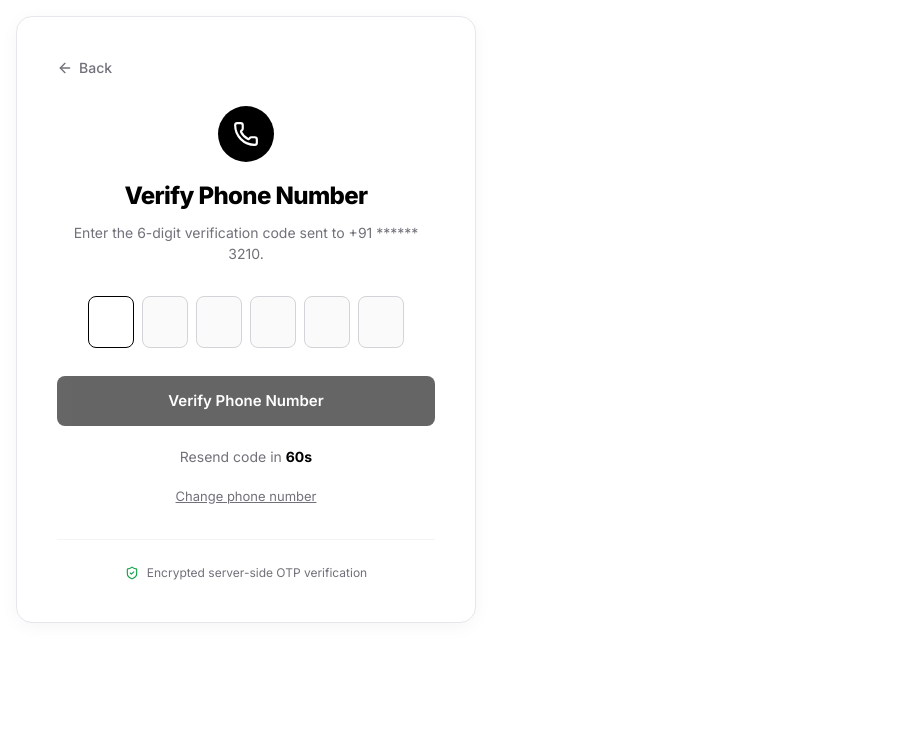
Test case: VerifyPhonePage Component › submits valid OTP and displays success confirmation
Step 1. Type "1" into the field named "Digit 1" → (111, 322), box 88,296 -> 134,348
Step 2. Type "1" into the field named "Digit 2" → (165, 322), box 142,296 -> 188,348
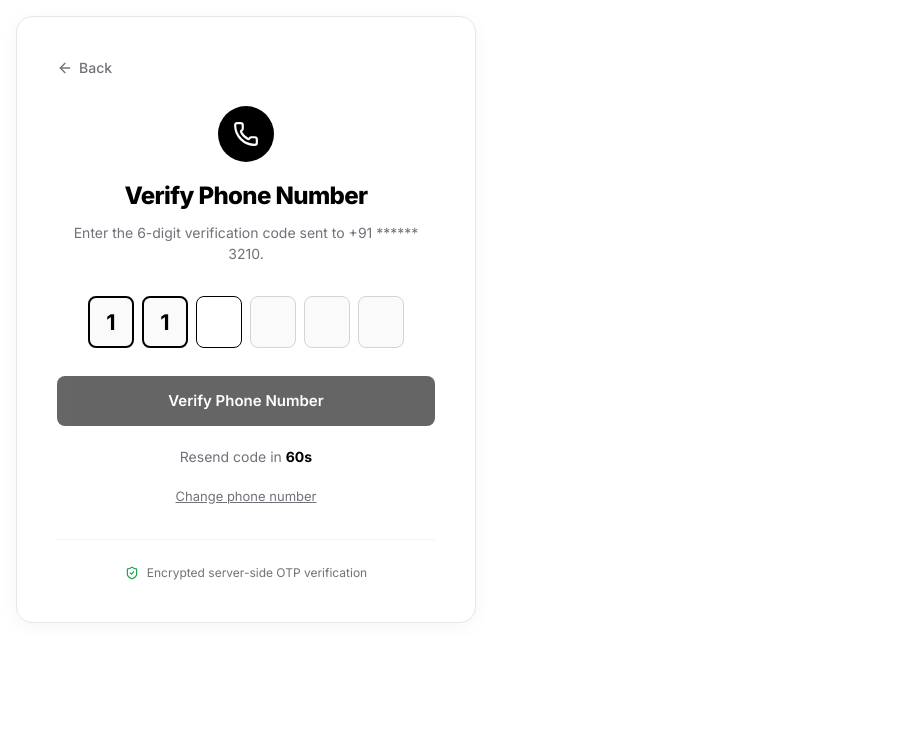
Step 3. Type "1" into the field named "Digit 3" → (219, 322), box 196,296 -> 242,348
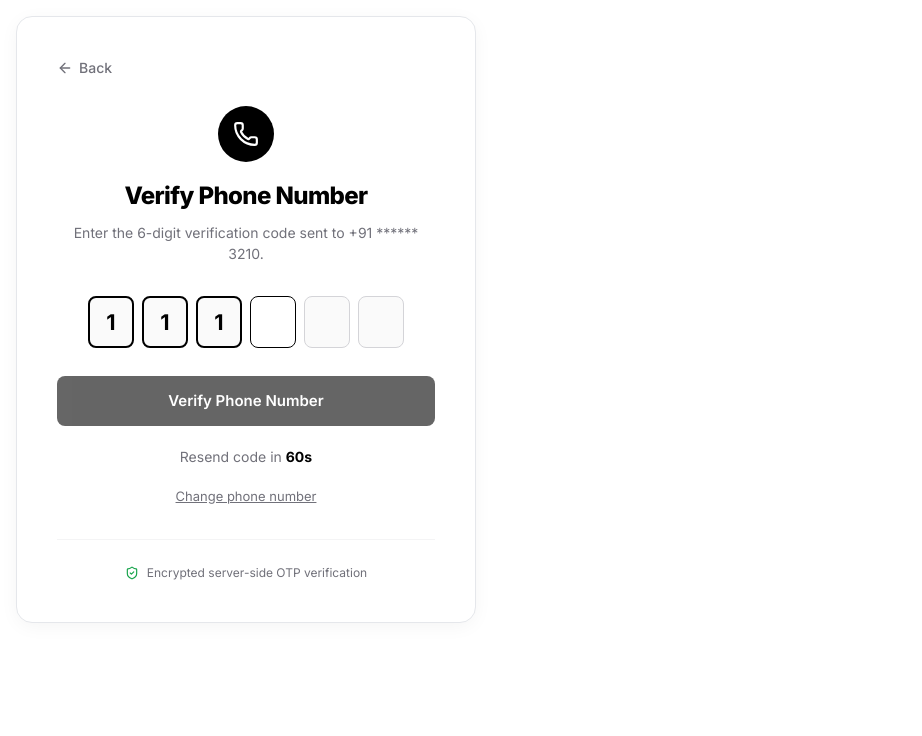
Step 4. Type "1" into the field named "Digit 4" → (273, 322), box 250,296 -> 296,348
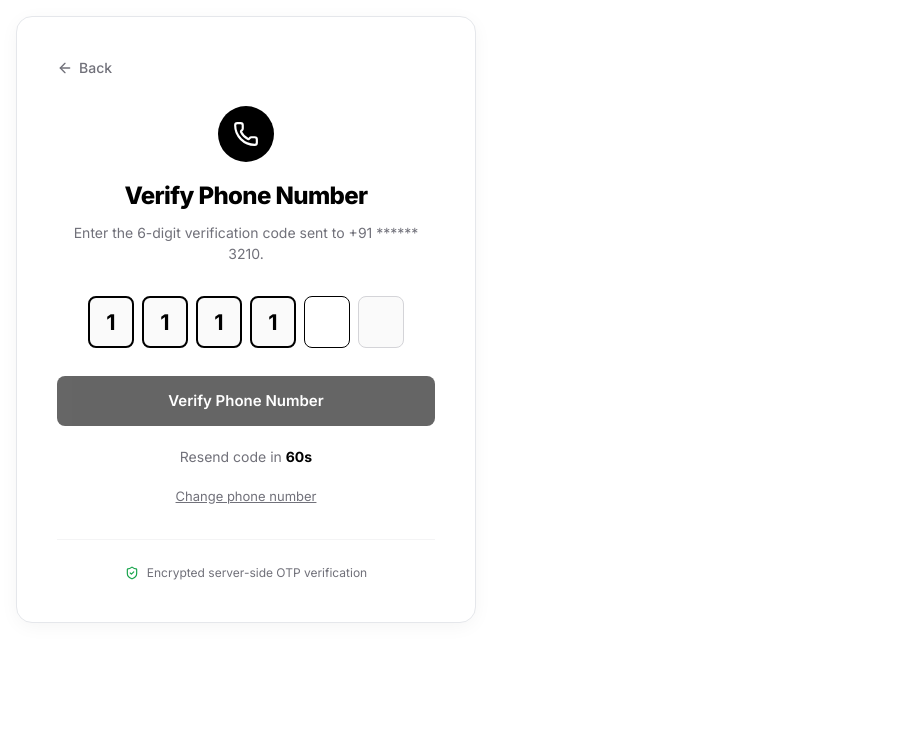
Step 5. Type "1" into the field named "Digit 5" → (327, 322), box 304,296 -> 350,348
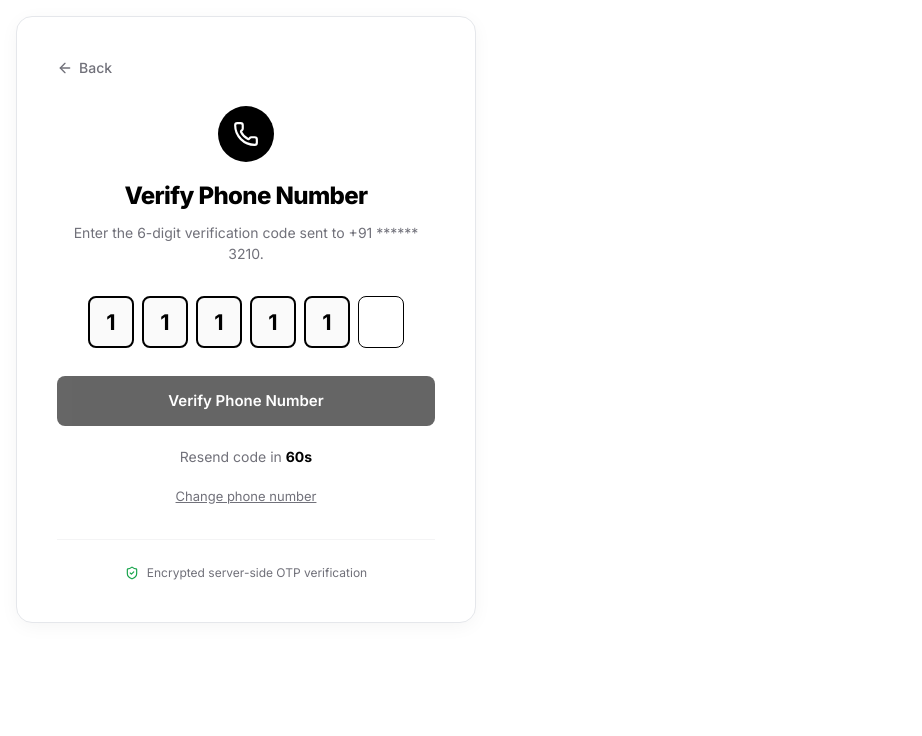
Step 6. Type "1" into the field named "Digit 6" → (381, 322), box 358,296 -> 404,348
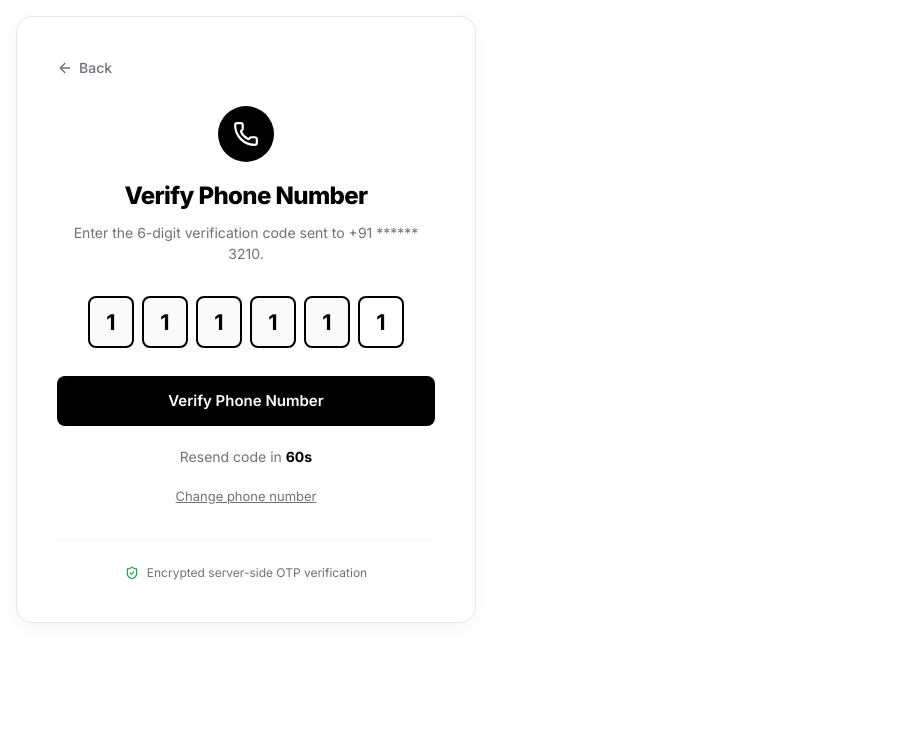
Step 7. Click the button "Verify Phone Number" → (246, 401), box 57,376 -> 435,426
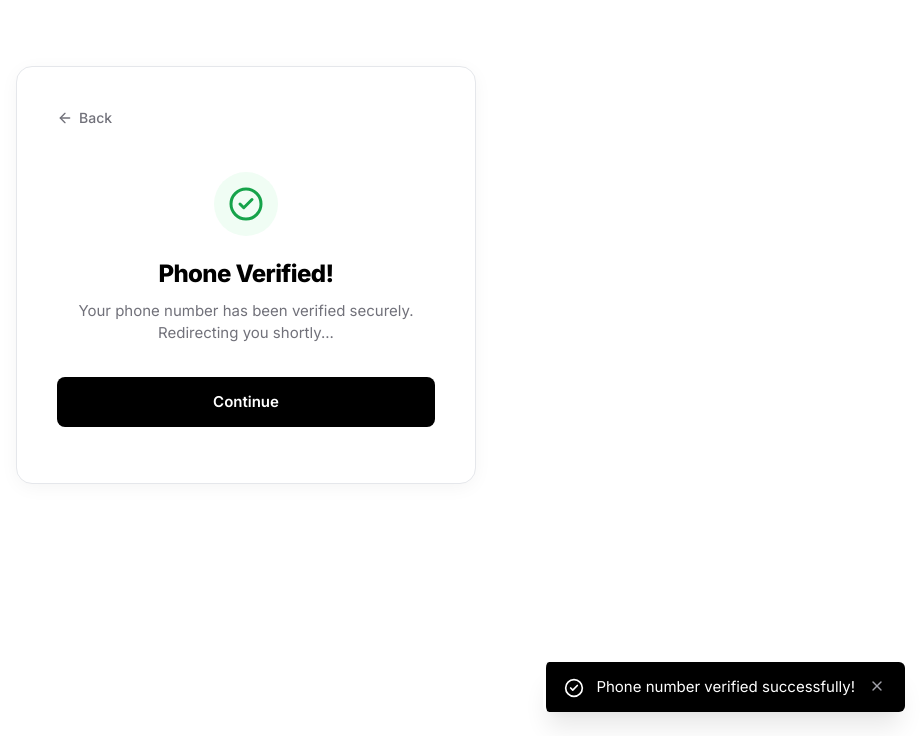
Result: the heading "Phone Verified!" is shown at 158,259 -> 334,288
